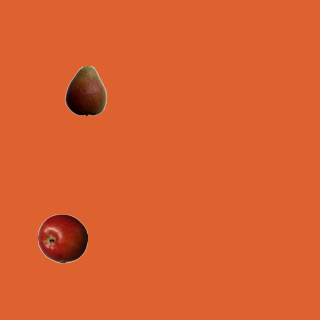Apple Braeburn: (37, 213, 87, 263)
Pear Forelle: (60, 65, 110, 115)
